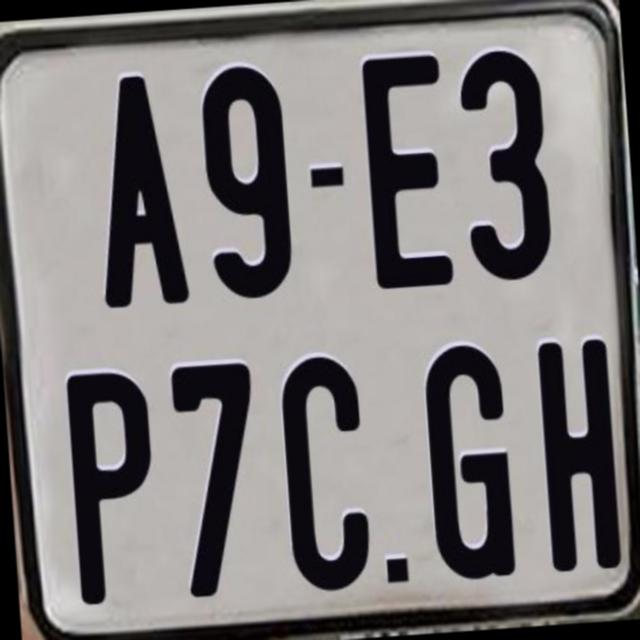3: (457, 48, 552, 292)
7: (167, 362, 268, 604)
9: (198, 61, 299, 302)
A: (86, 72, 192, 310)
C: (278, 351, 372, 599)
E: (359, 52, 454, 289)
G: (421, 338, 518, 578)
H: (536, 338, 628, 576)
P: (66, 366, 166, 610)
